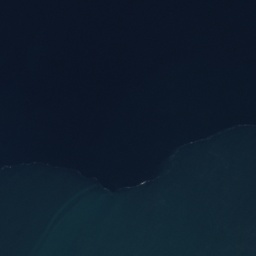Marine Debris: (0, 158, 148, 195)
